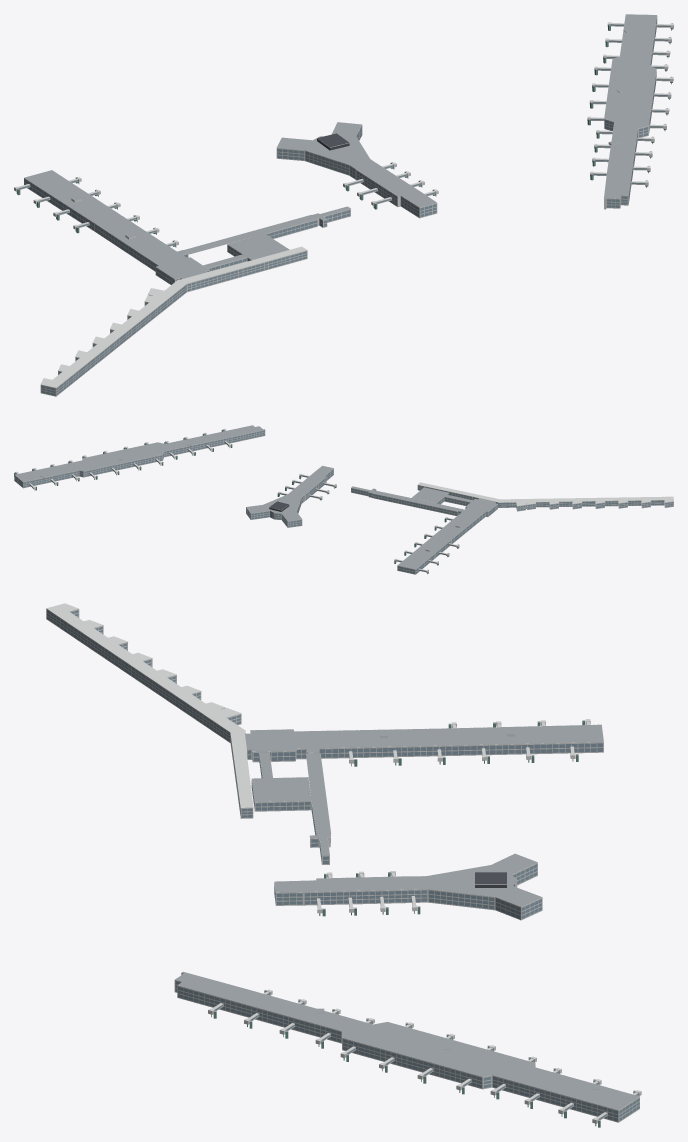
The model's file is amsterdam-schiphol-piers-e-h.detail.glb.
3 renders of one model, top to bottom at view 1: azimuth 30°, elevation 25°; view 2: azimuth 150°, elevation 25°; view 3: azimuth 270°, elevation 25°, orthographic. The views are drawn at different scales.
Parts seen in each view (by area): view 1: Amsterdam Airport Schiphol piers E, F, G and H; view 2: Amsterdam Airport Schiphol piers E, F, G and H; view 3: Amsterdam Airport Schiphol piers E, F, G and H.
Boxes of the visible parts, box(x1,y1,x2,y2) form: Amsterdam Airport Schiphol piers E, F, G and H: box(14, 14, 673, 396); Amsterdam Airport Schiphol piers E, F, G and H: box(14, 425, 673, 574); Amsterdam Airport Schiphol piers E, F, G and H: box(46, 603, 641, 1127).
Bounding box in the file's own units: 1145 × 18 × 561.
